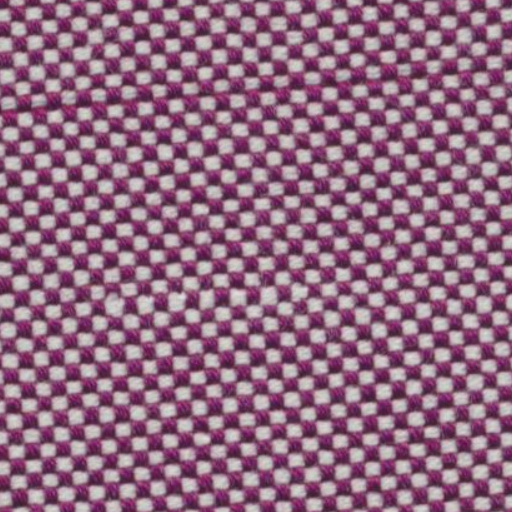TuoSha: (8, 47, 502, 130), (24, 278, 446, 346)
